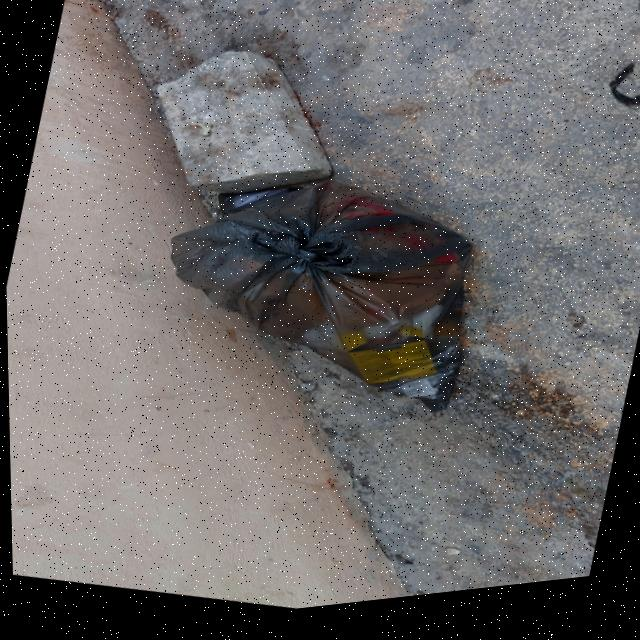Mixed Waste -Black Bag-: (138, 142, 499, 454)
